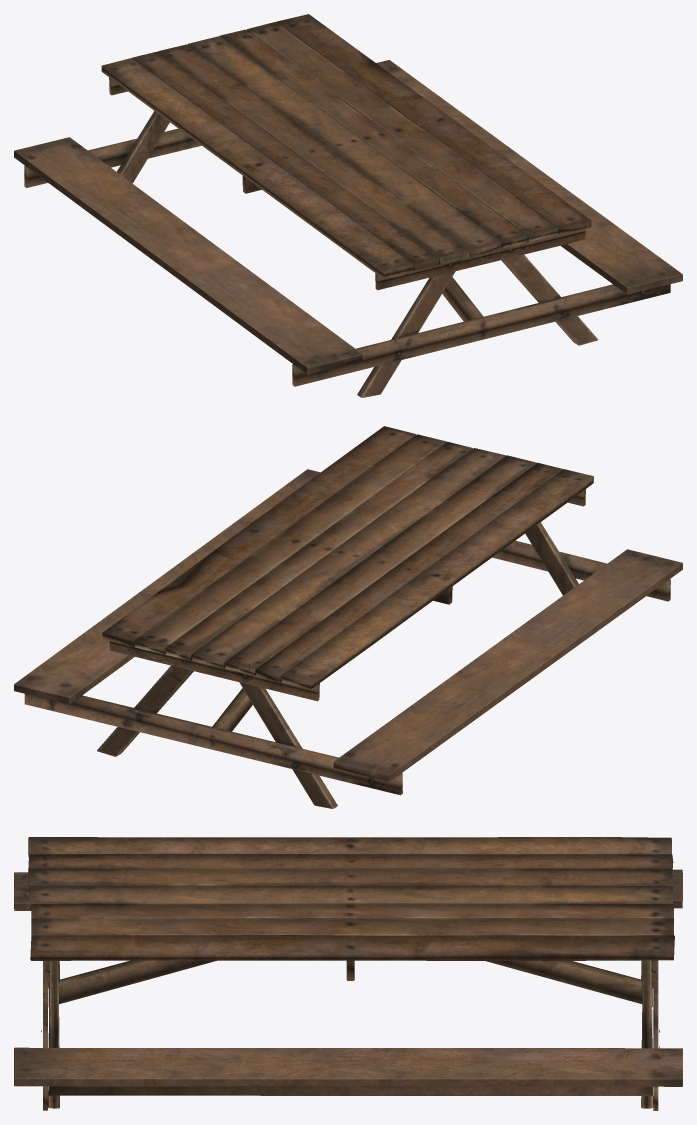
The model's file is wooden_picnic_table.glb.
3 views of the same model, one above another, from view 1: azimuth 30°, elevation 25°; view 2: azimuth 150°, elevation 25°; view 3: azimuth 270°, elevation 25° (orthographic). The views are drawn at different scales.
Visible parts, largest first — view 1: wooden_picnic_table; view 2: wooden_picnic_table; view 3: wooden_picnic_table.
Part boxes in pixels (left/top/right/bottom): wooden_picnic_table: left=14, top=14, right=682, bottom=397; wooden_picnic_table: left=14, top=426, right=682, bottom=808; wooden_picnic_table: left=14, top=837, right=682, bottom=1110.
Bounding box in the file's own units: 2.24 × 0.7446 × 3.02.
2 materials, 2 textured.
